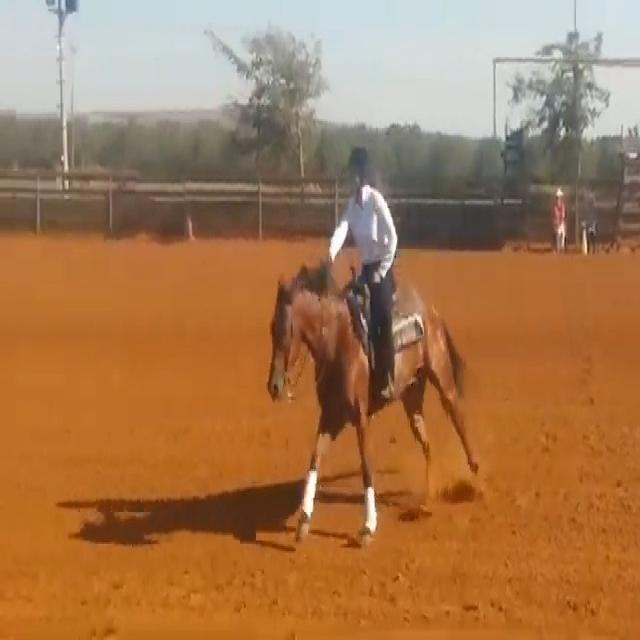horse: (265, 258, 481, 546)
